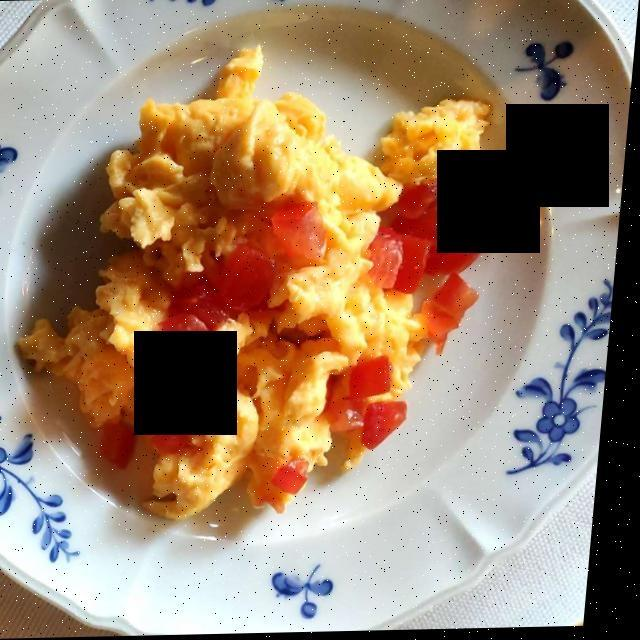eggs: (25, 42, 483, 517)
